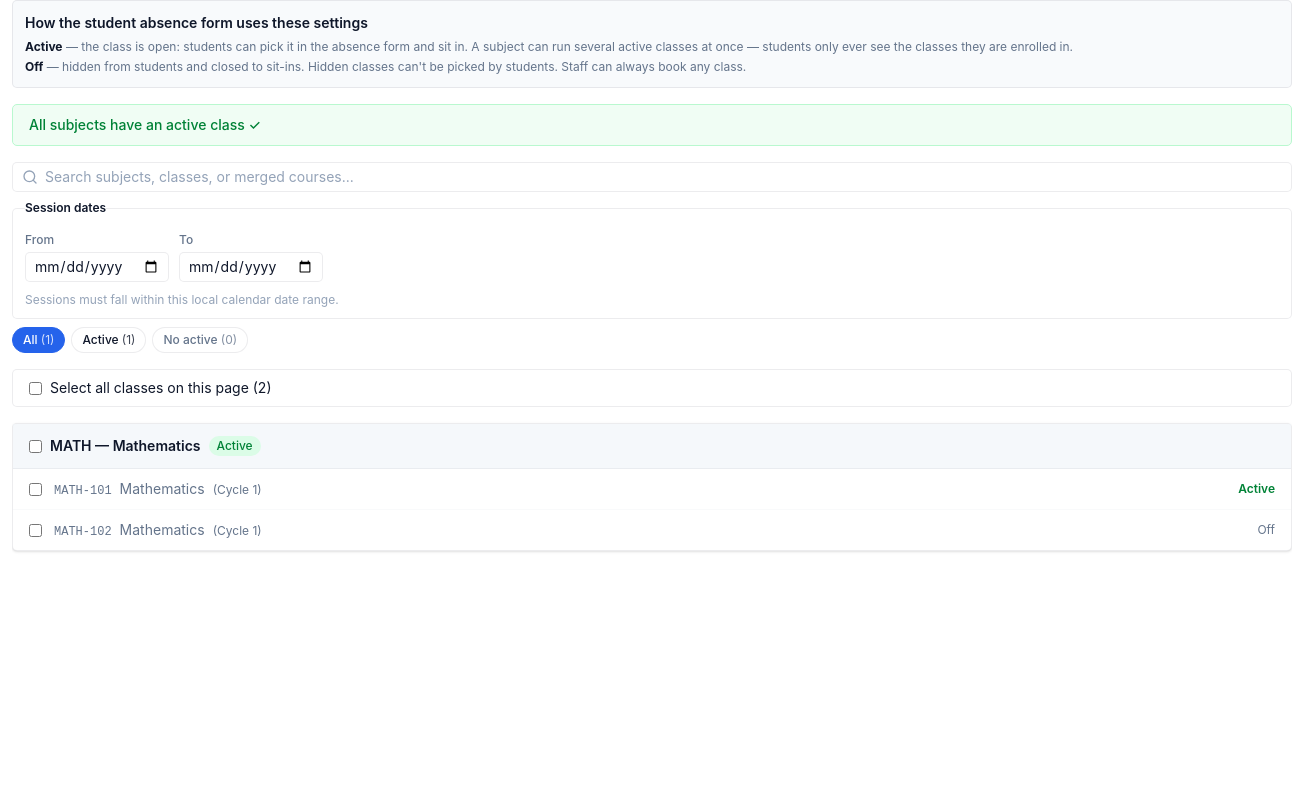
Scenario: ActiveCoursesSection — one Active switch per class › bulk activates a single selected class
This screenshot has width=1304, height=800.
Expected: the text "MATH — Mathematics" is shown, [50,436,200,456]
Click the checkbox named "Select MATH-102".
click(36, 530)  # box [29,524,42,536]
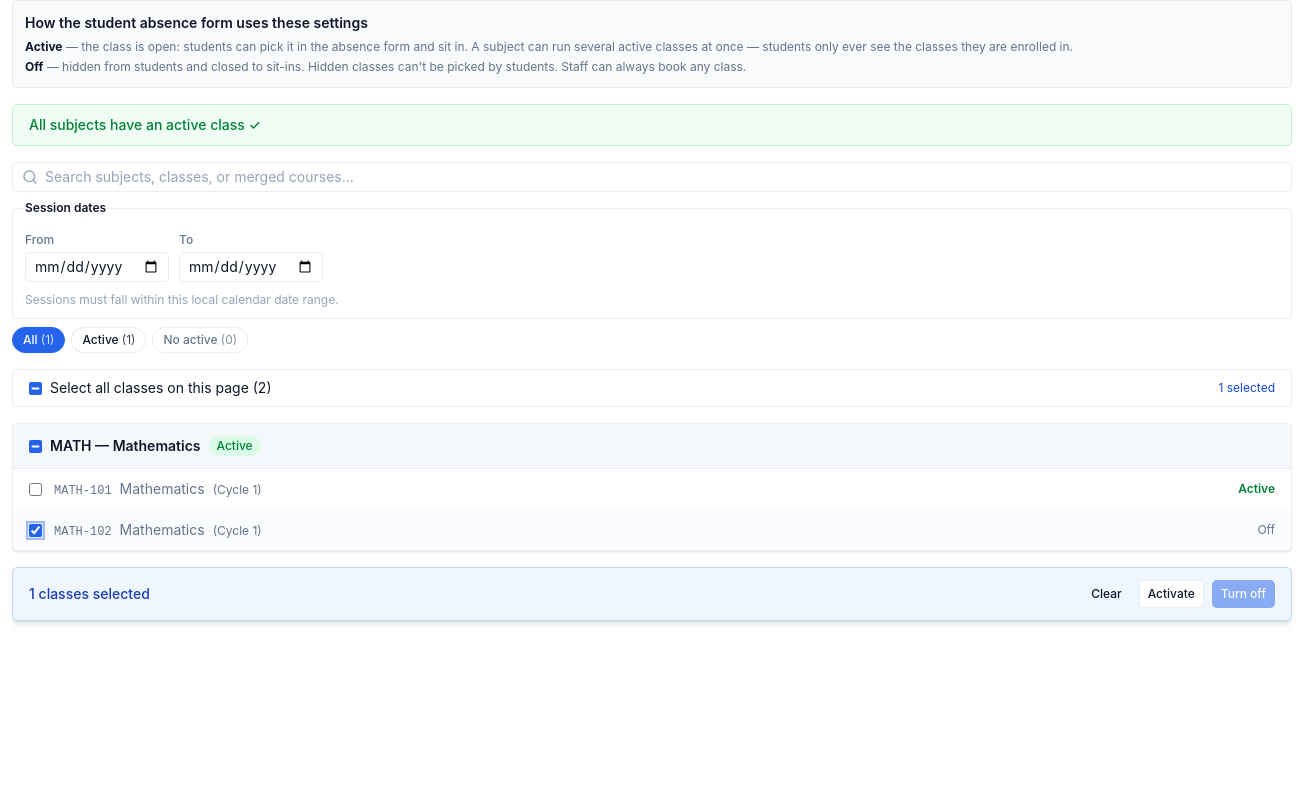
Expected: the text "1 classes selected" is shown, [29,584,150,604]
Click the button "Activate".
click(1171, 594)  # box [1139,580,1204,608]
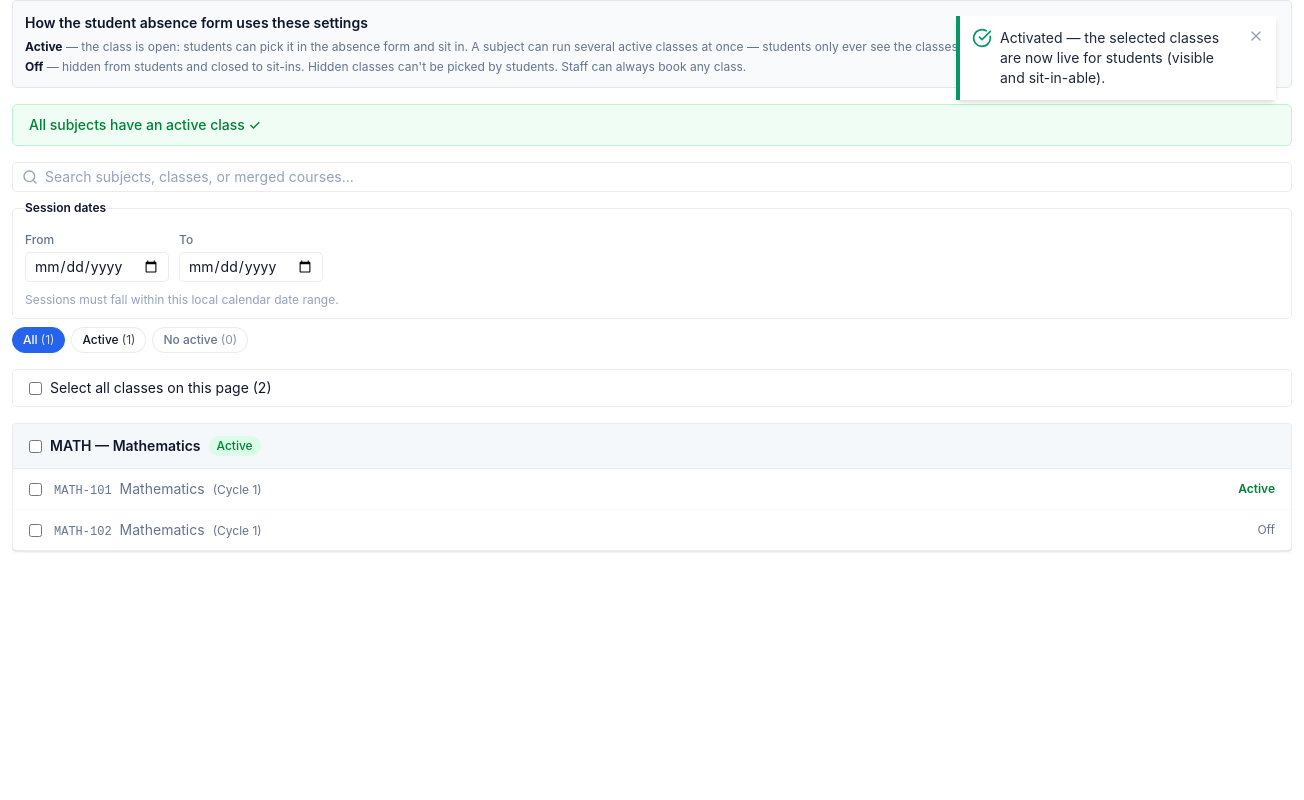
Expected: the text "1 classes selected" is gone
